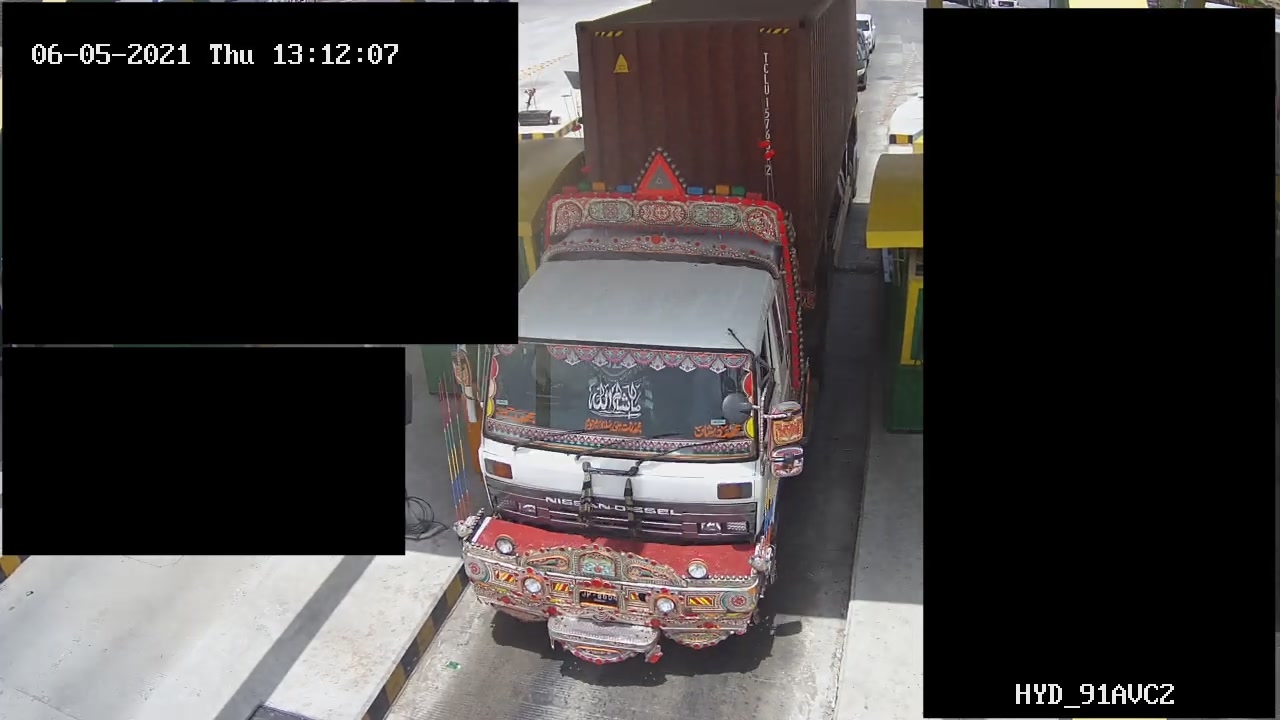F6: (451, 1, 859, 672)
